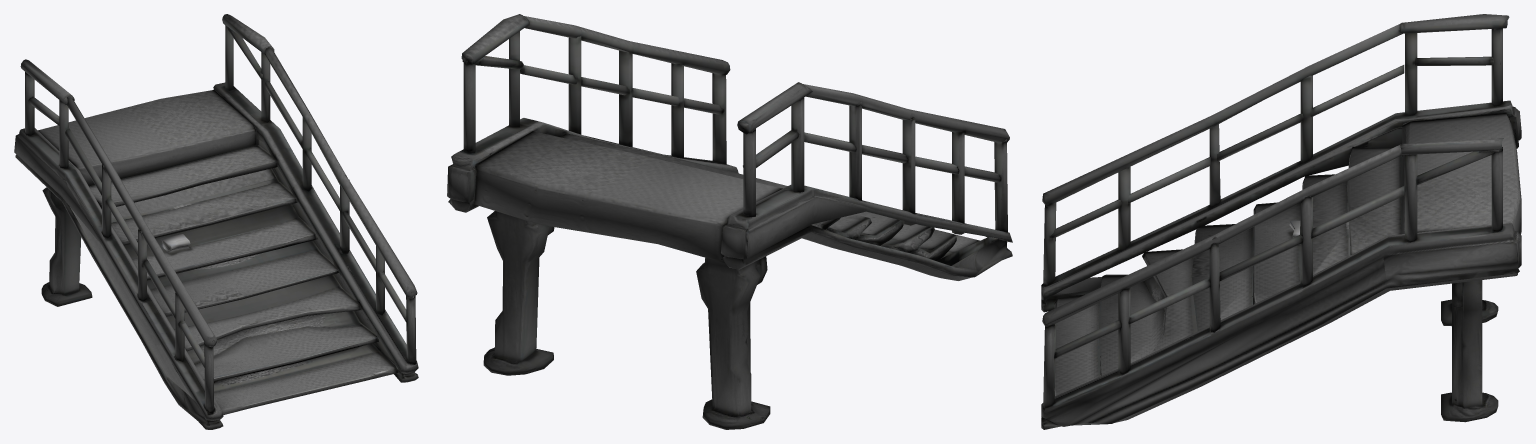
File: tripo_convert_83c1e80a-6435-4dbc-b4d9-30f0cb524149.fbx
3 views of the same model, side by side, from view 1: azimuth 30°, elevation 25°; view 2: azimuth 150°, elevation 25°; view 3: azimuth 270°, elevation 25° (orthographic). The views are drawn at different scales.
Visible parts, largest first — view 1: tripo_node_83c1e80a; view 2: tripo_node_83c1e80a; view 3: tripo_node_83c1e80a.
Boxes of the visible parts, x1,y1,x2,y2 form: tripo_node_83c1e80a: [14, 14, 418, 429]; tripo_node_83c1e80a: [447, 14, 1012, 429]; tripo_node_83c1e80a: [1041, 14, 1521, 429].
Bounding box in the file's own units: 0.6387 × 0.6621 × 0.998.
Materials: 1 (1 with a texture image).
